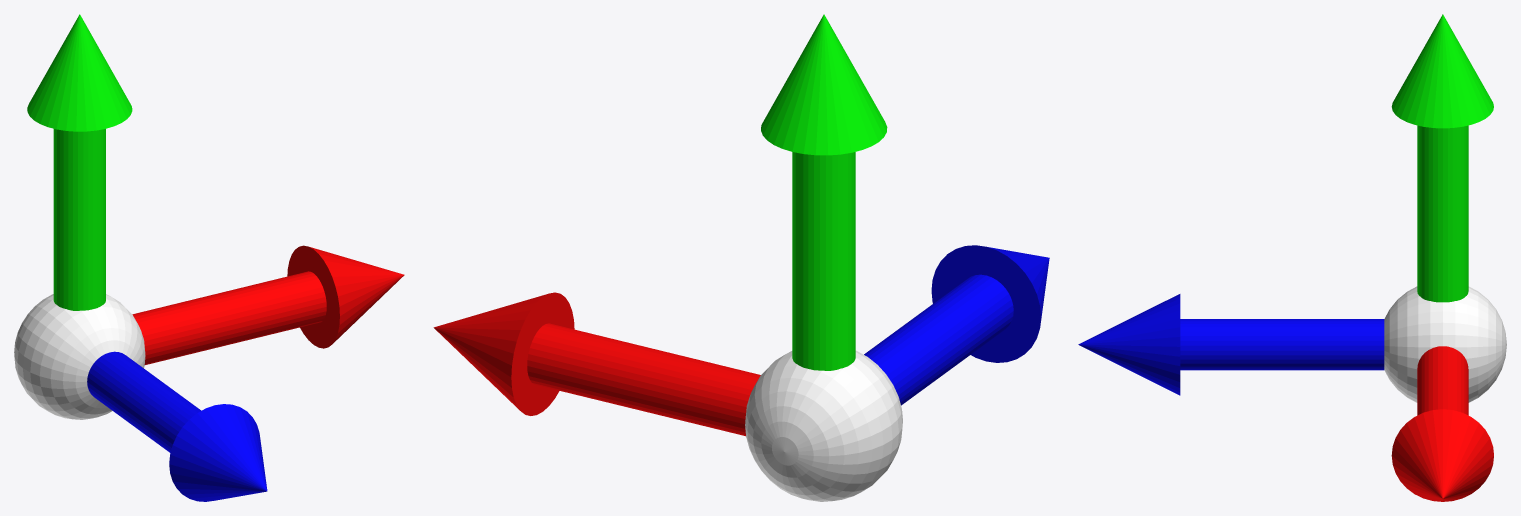
The model's file is axis.obj.
3 views of the same model, side by side, from view 1: azimuth 30°, elevation 25°; view 2: azimuth 150°, elevation 25°; view 3: azimuth 270°, elevation 25° (orthographic). The views are drawn at different scales.
Parts seen in each view (by area): view 1: Center; view 2: Center; view 3: Center.
Boxes of the visible parts, box(x1,y1,x2,y2) form: Center: box(14, 14, 404, 501); Center: box(433, 14, 1049, 501); Center: box(1078, 14, 1506, 501).
Size of the model in its own units: 3.35 by 3.35 by 3.35.
